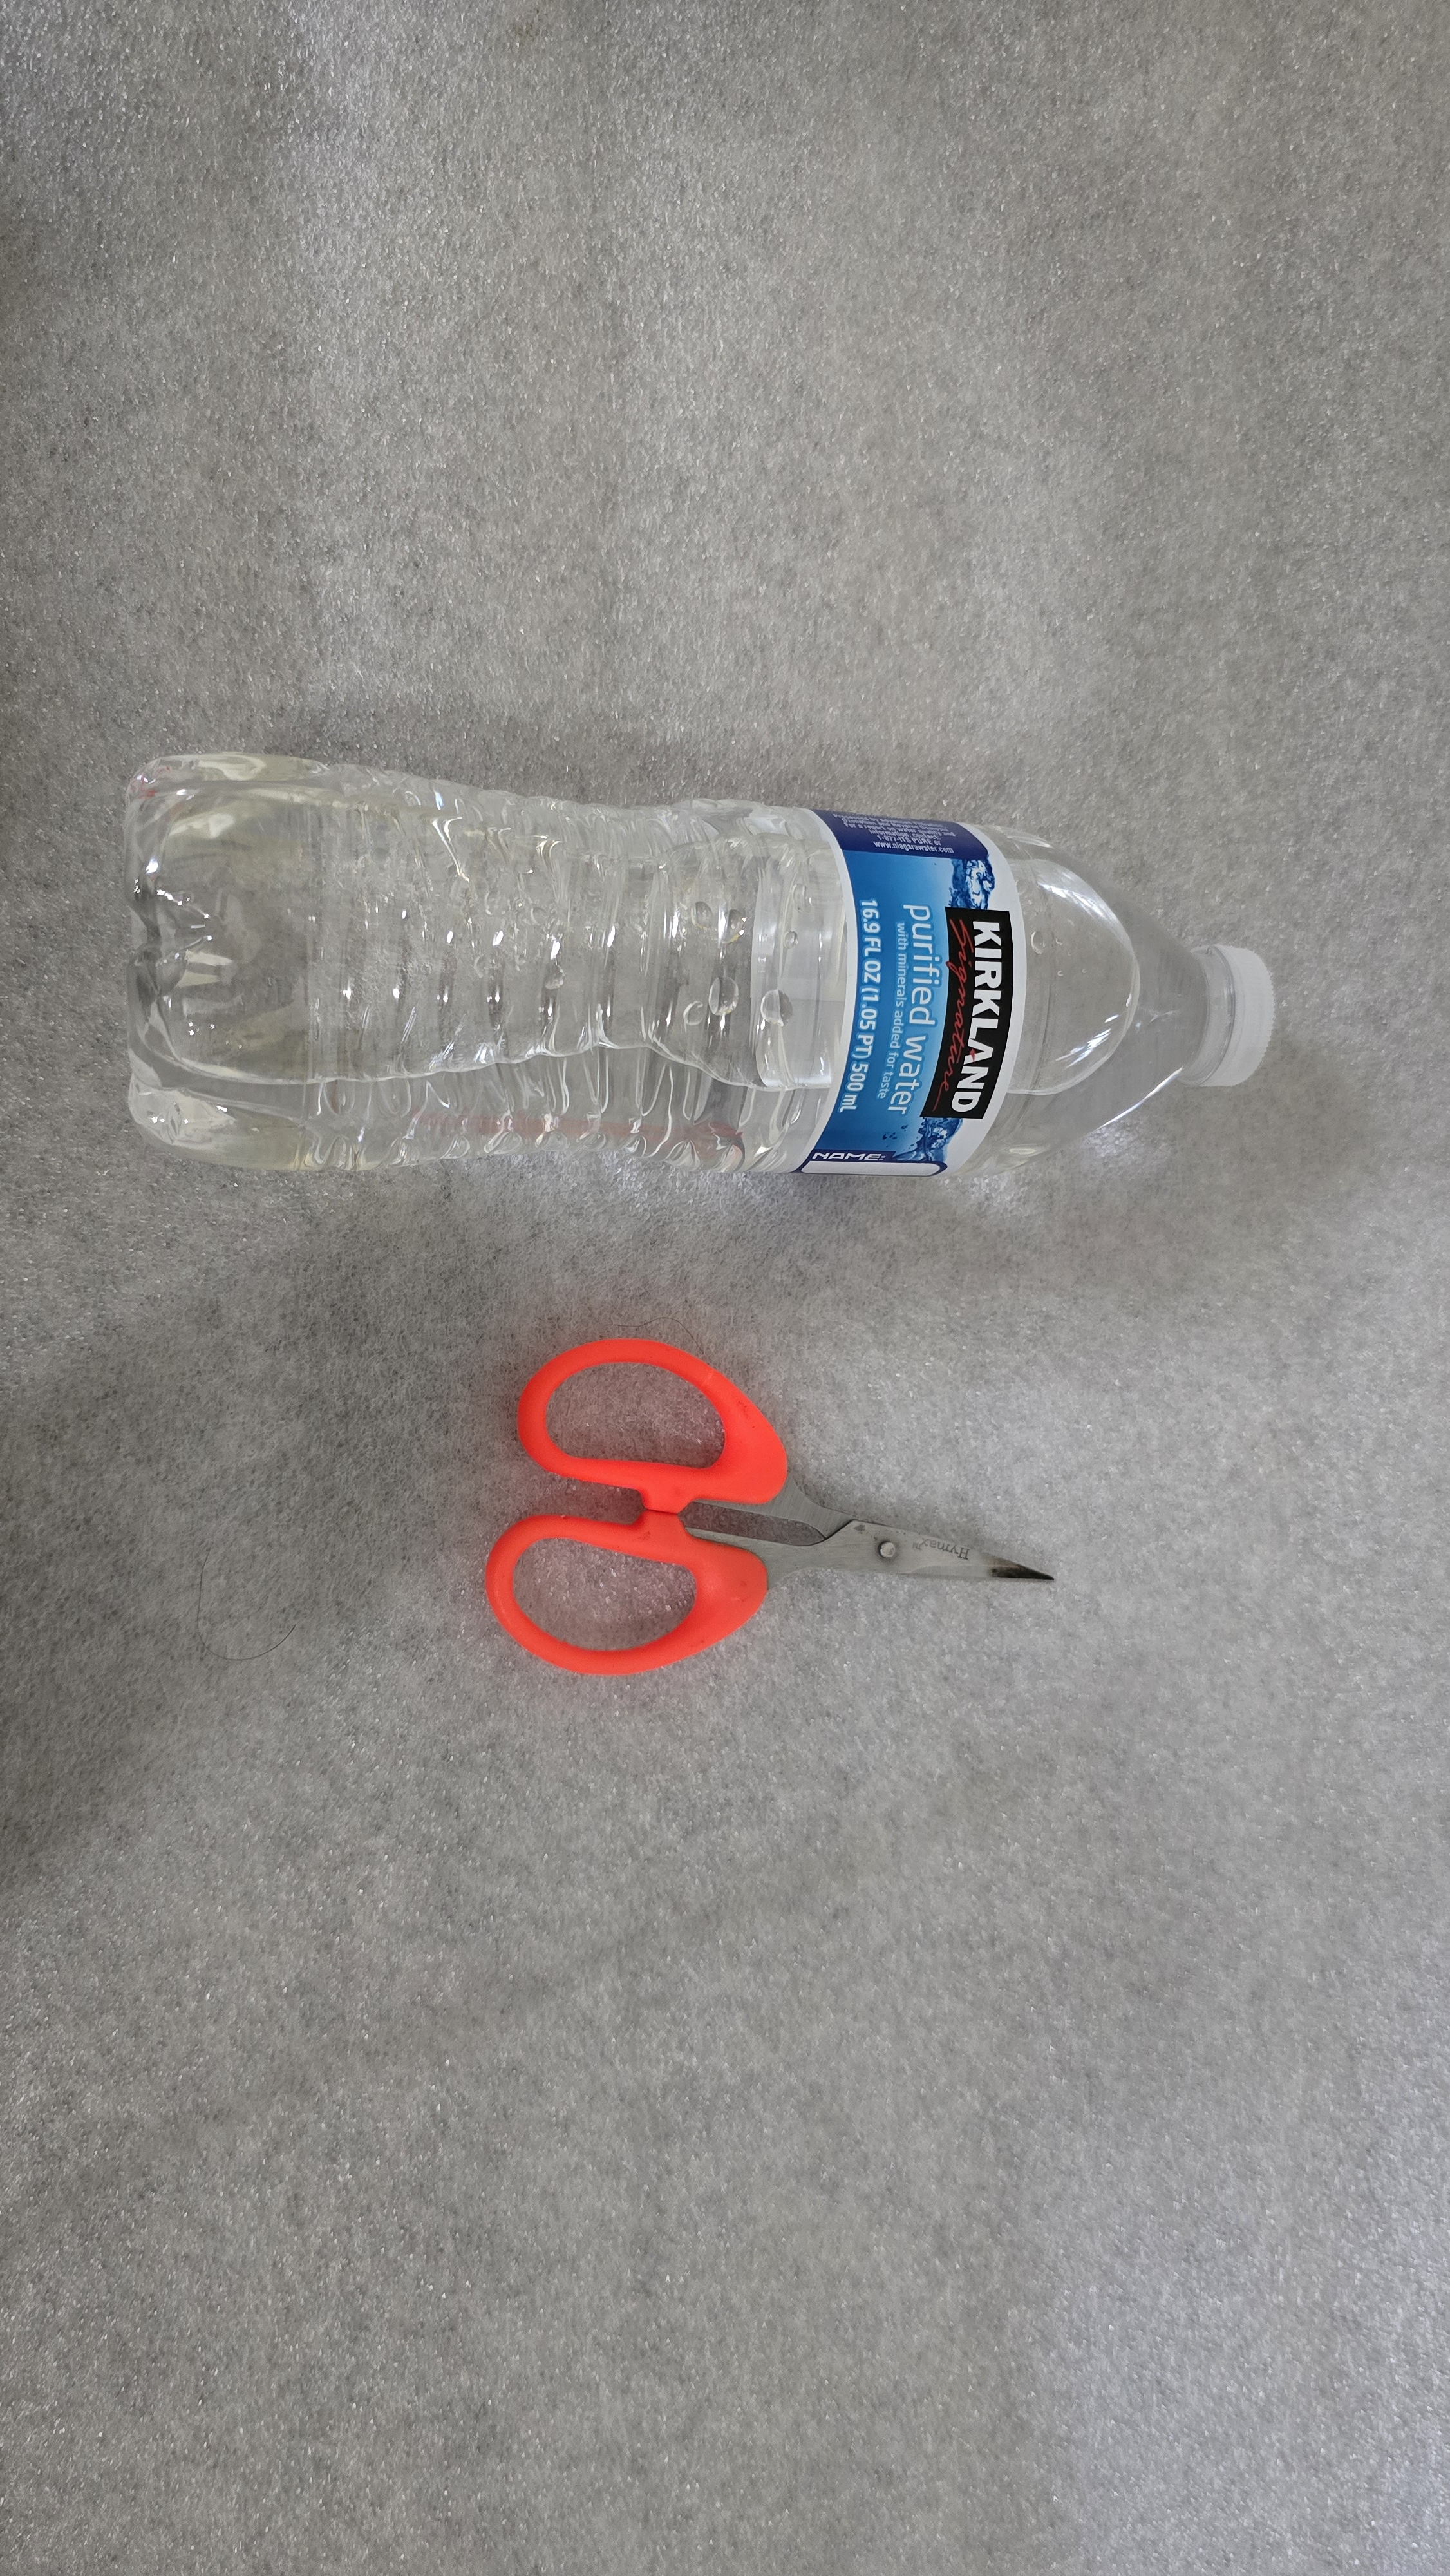bottle: (61, 703, 1319, 1261)
